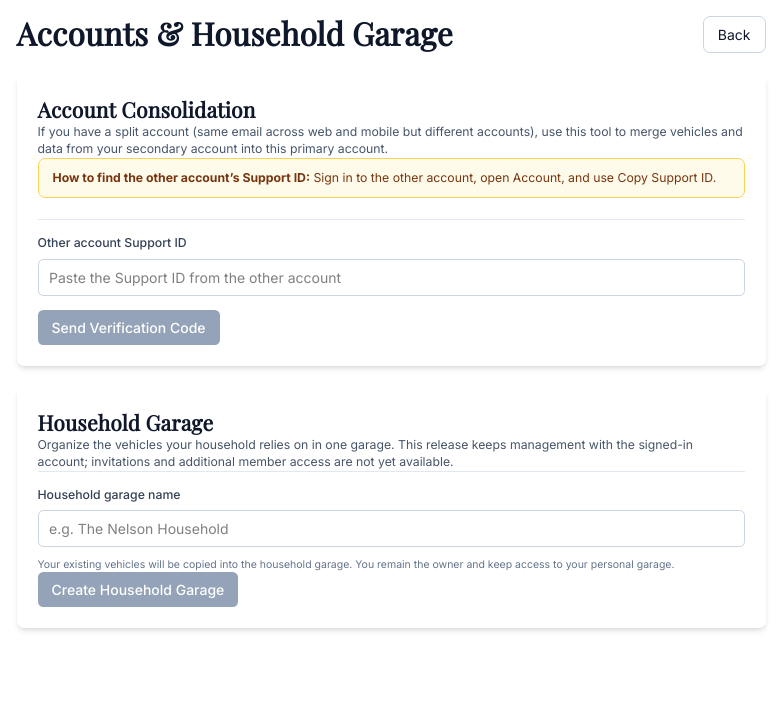
Test: AccountConsolidation – account merge › blocks account consolidation when the source UID matches the current user
This screenshot has width=784, height=714.
Type "user-1" into the field labelled "Other account Support ID" at (391, 277), box [38,258,744,296]
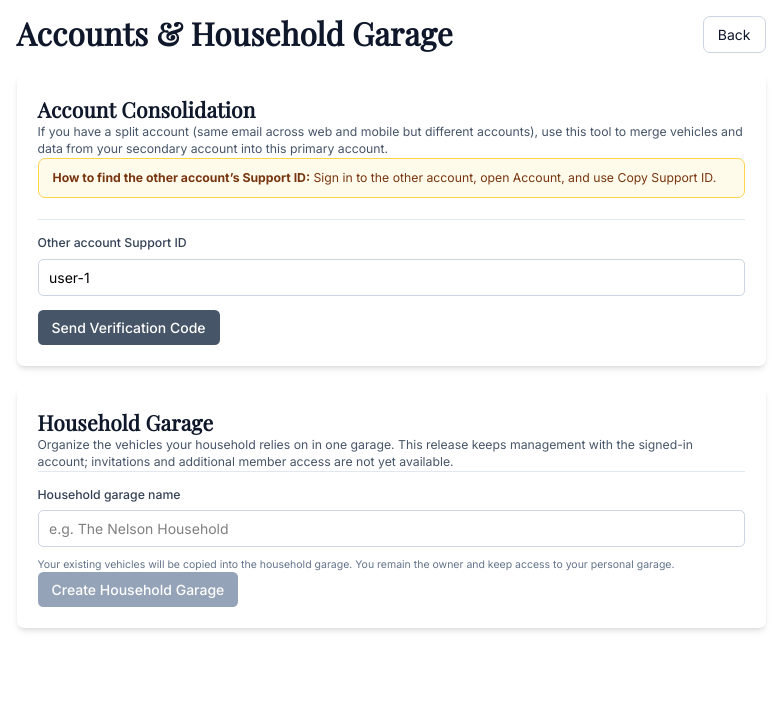
Click the button "Send Verification Code" at (129, 327), box [38,310,220,344]
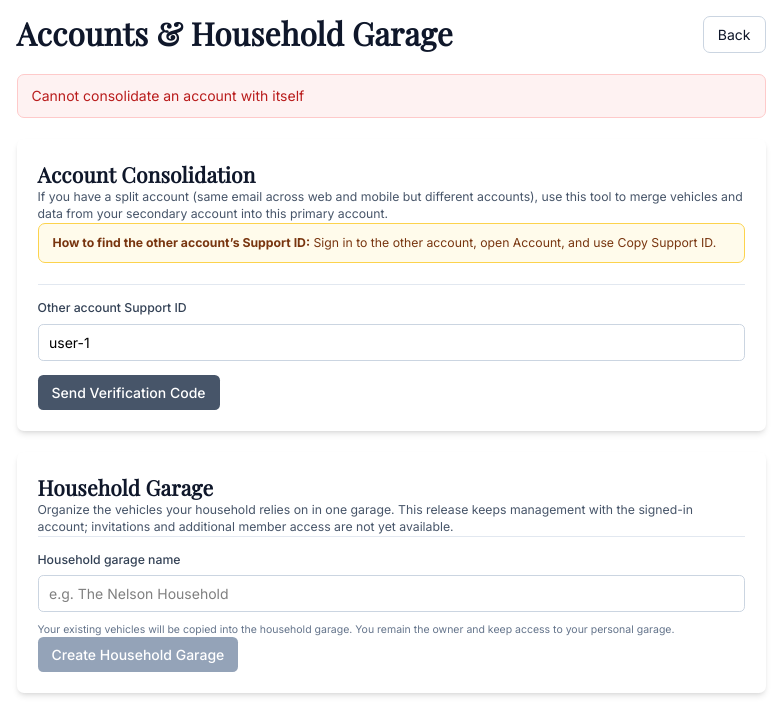
Expected: the text "Cannot consolidate an account with itself" is shown, [16,74,766,118]
